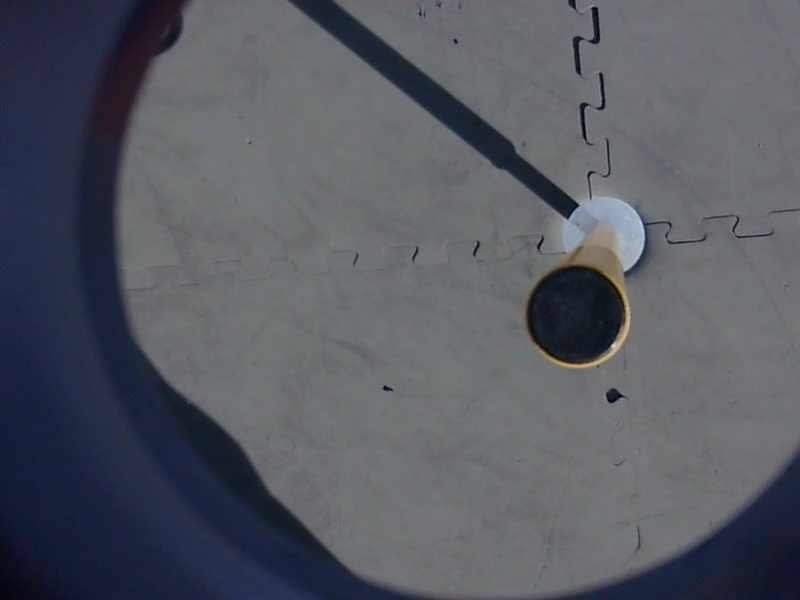tip: (518, 258, 637, 377)
